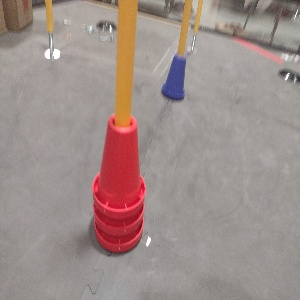Blue_1: (161, 52, 186, 100)
Red_3: (91, 112, 146, 252)
